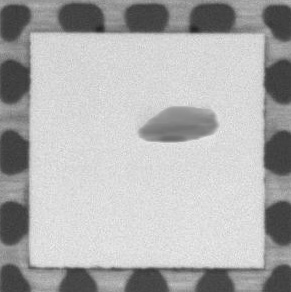DIE_INK: (136, 104, 220, 144)
